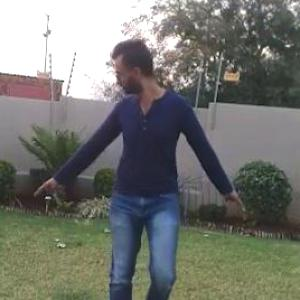land: (30, 49, 272, 299)
